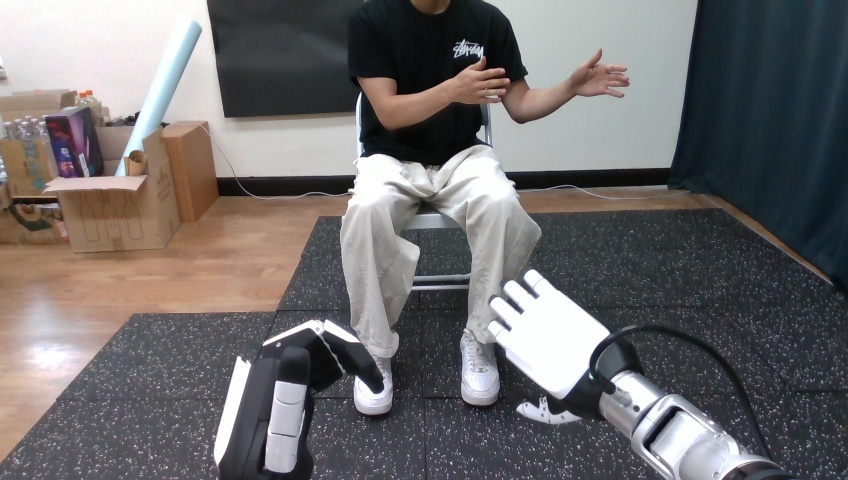left robot hand: (488, 269, 791, 479), (214, 320, 383, 478), (569, 49, 628, 97), (449, 57, 509, 103)
